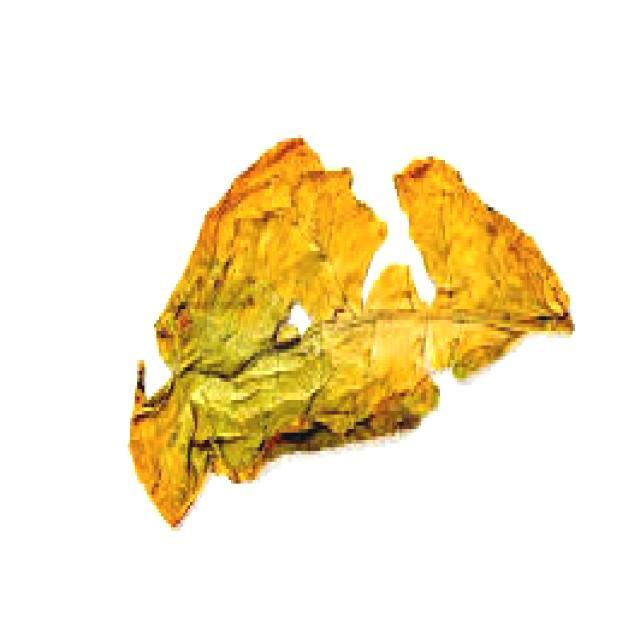leaf: (128, 135, 574, 528)
